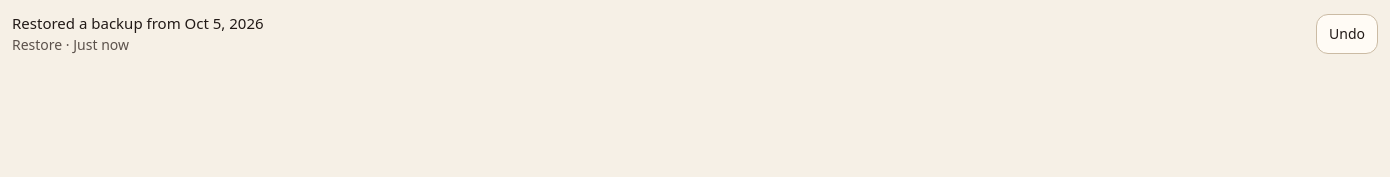
it: HistoryRow › toasts the reason when the undo is refused
This screenshot has width=1390, height=177.
Click the button "Undo" at (1347, 34), box [1316,14,1378,54]
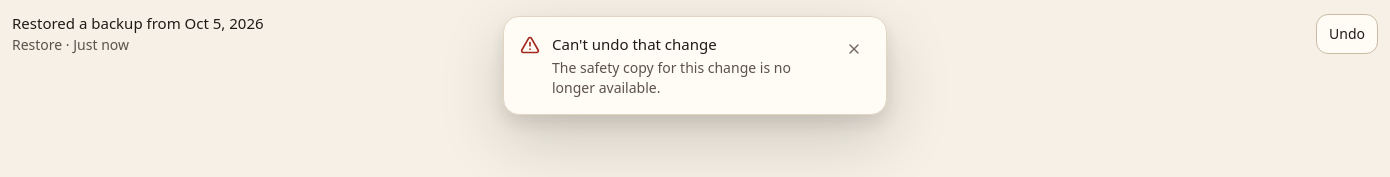
Now the text "Can't undo that change" is shown, box [552,34,717,54]
Now the text "The safety copy for this change is no longer available." is shown, box [552,58,822,98]
